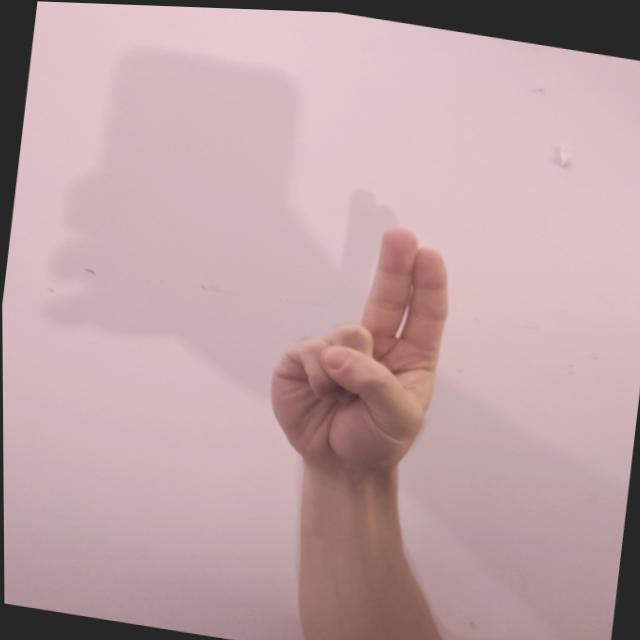U: (255, 200, 469, 486)
